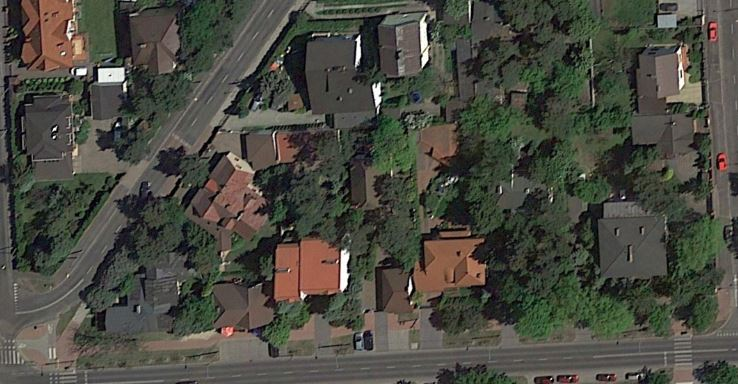family house: (616, 32, 707, 157), (186, 149, 282, 248), (295, 23, 387, 111), (591, 197, 673, 284), (410, 214, 495, 296), (269, 228, 358, 306), (13, 88, 80, 184), (122, 5, 195, 87), (14, 1, 91, 78), (371, 1, 445, 78), (206, 272, 282, 337)
